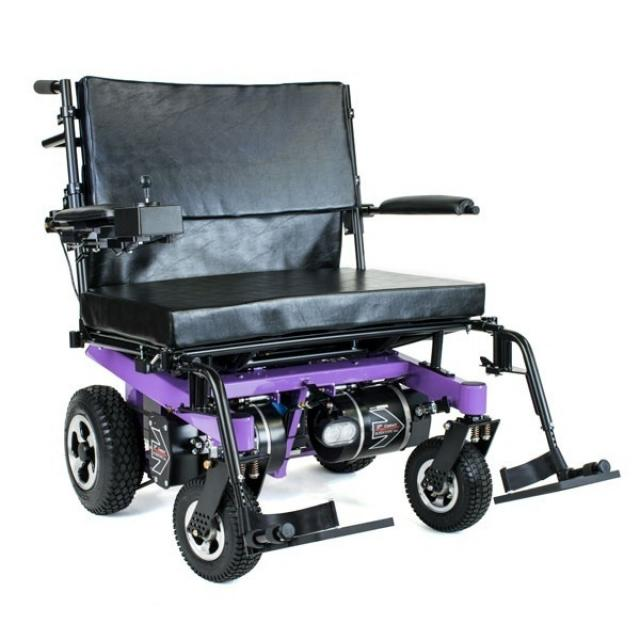wheelchair: (26, 62, 626, 584)
